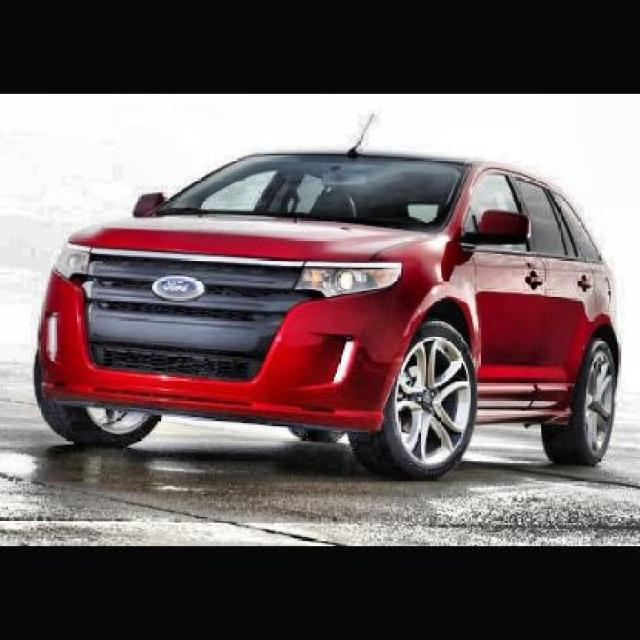red: (31, 143, 628, 484)
